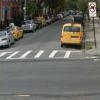Crosswalk: (3, 44, 98, 76)
